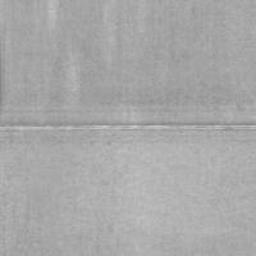Welding line: (0, 123, 256, 132)
